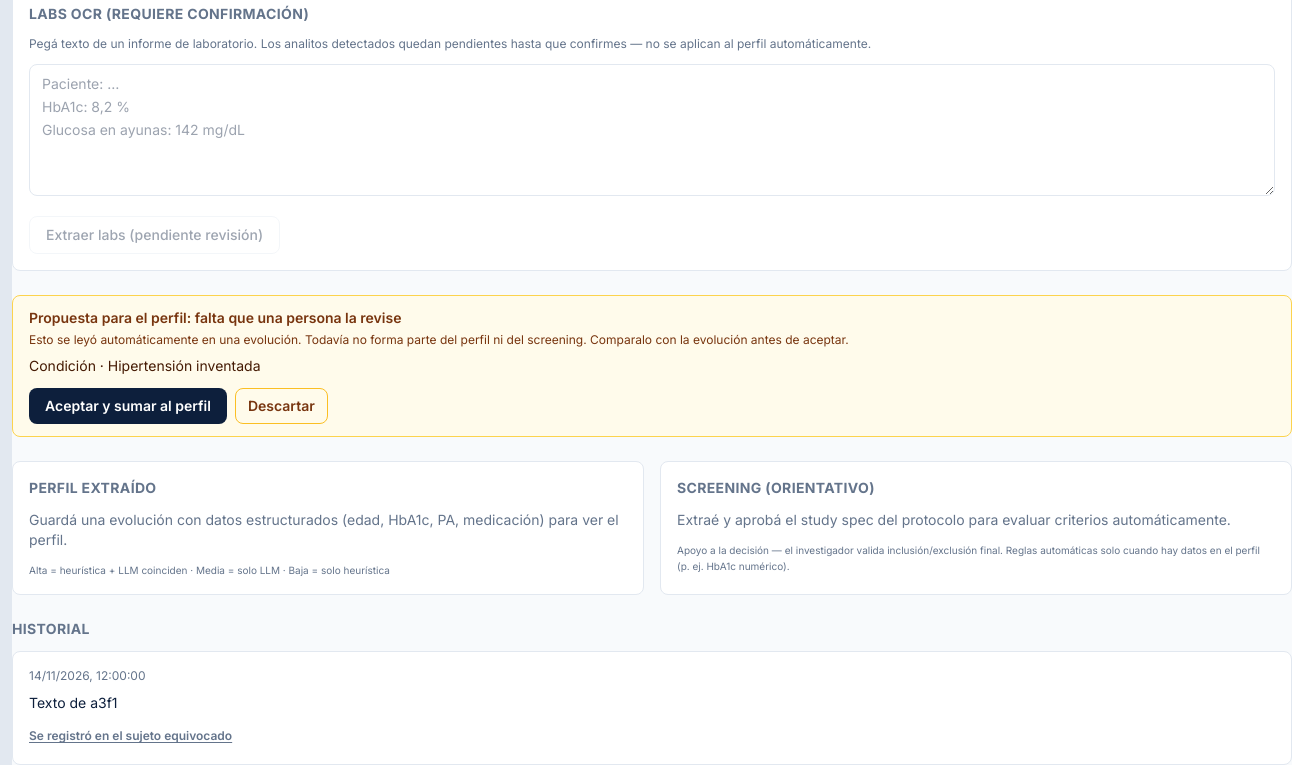
Test case: después de una declaración confirmada › si la historia se lee y el perfil no, la evolución sale marcada, la propuesta retirada no se ofrece y no se calla
(page scrolled)
Click the button "Se registró en el sujeto equivocado". click: click(131, 736)
box: [29, 728, 232, 744]
(page scrolled)
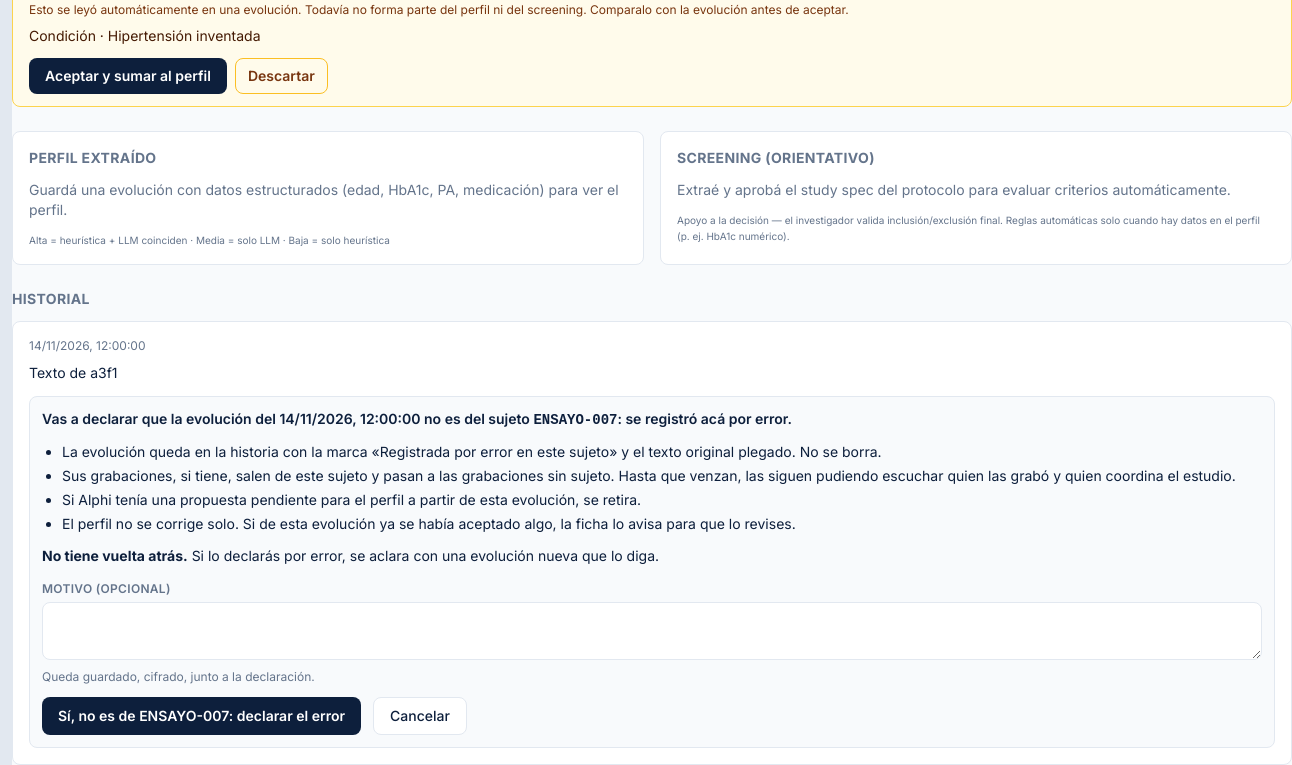
Click the button "Sí, no es de ENSAYO-007: declarar el error". click: click(202, 716)
box: [42, 697, 361, 735]
(page scrolled)
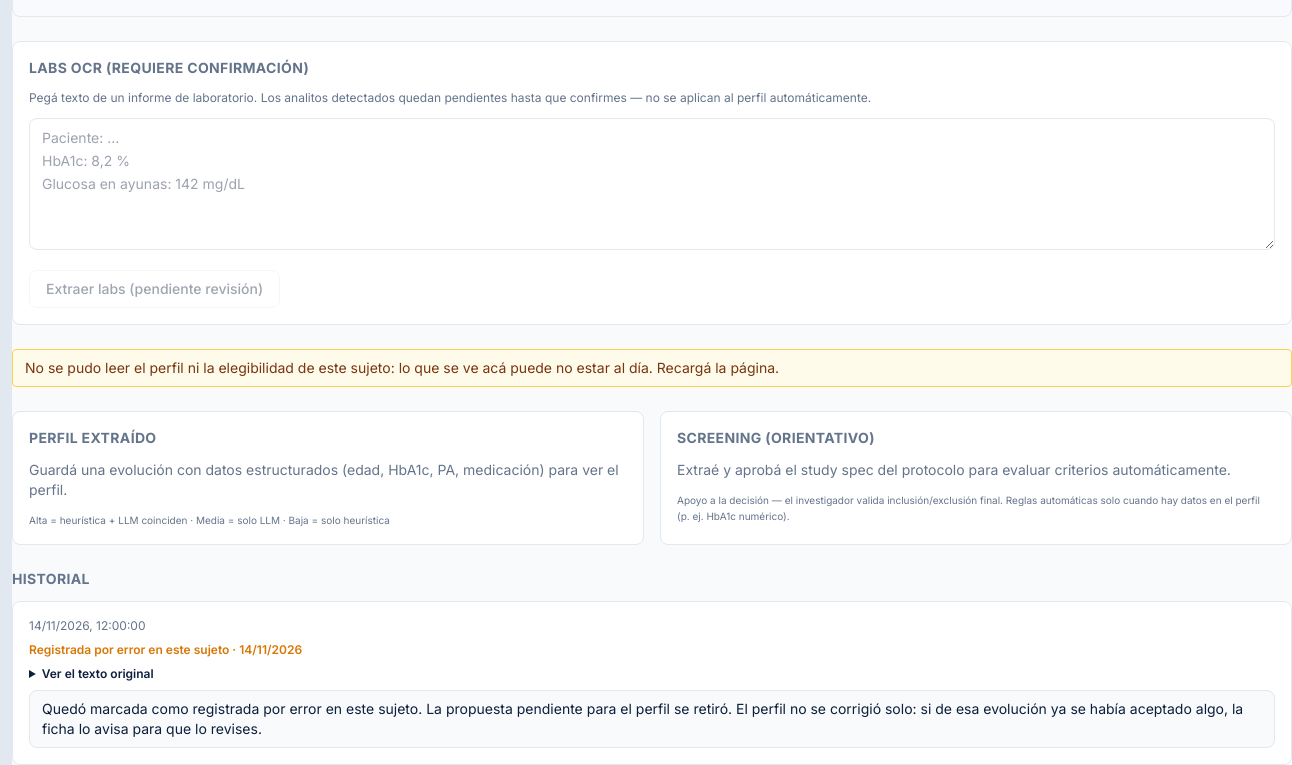
expect the list item shows "Registrada por error en este sujeto": met, box [29, 642, 302, 656]
expect the text "Condición · Hipertensión inventada" is gone: met
expect the text "No se pudo leer el perfil ni la elegibilidad de este sujeto: lo que se ve acá puede no estar al día. Recargá la página." is shown: met, box [25, 358, 779, 376]
